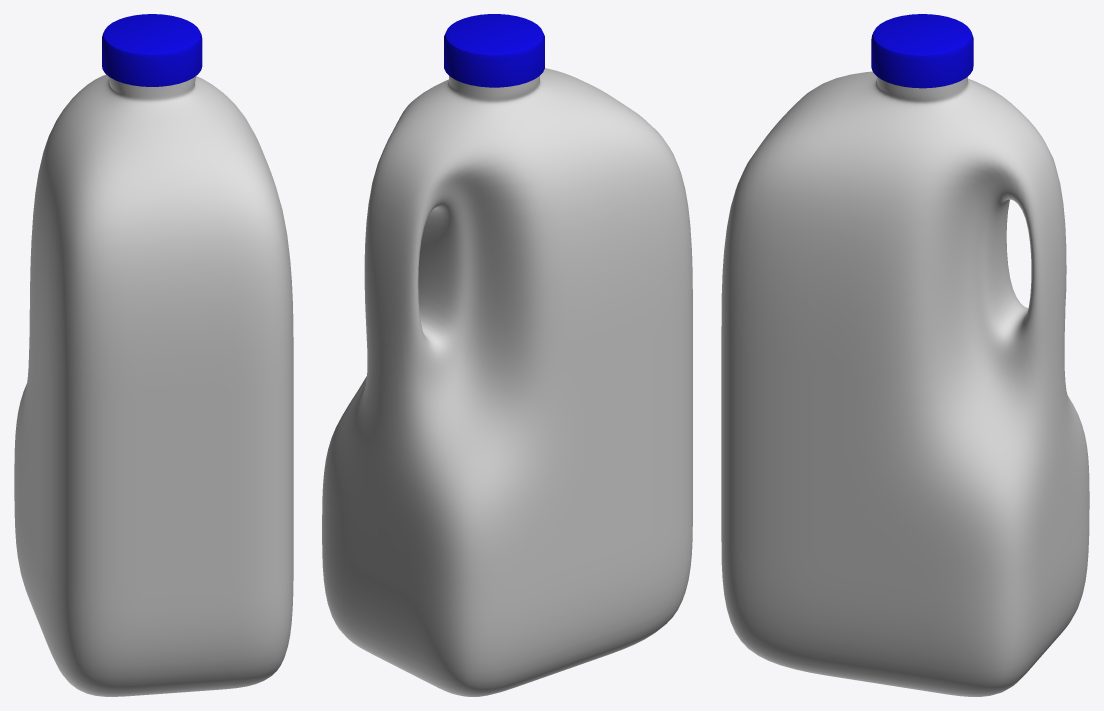
Rendered from milk.glb.
The picture shows the model from 3 angles, left to right: view 1: azimuth 30°, elevation 25°; view 2: azimuth 150°, elevation 25°; view 3: azimuth 270°, elevation 25°; orthographic projection.
Parts seen in each view (by area): view 1: MilkBody, MilkLid; view 2: MilkBody, MilkLid; view 3: MilkBody, MilkLid.
Boxes of the visible parts, x1,y1,x2,y2 form: MilkBody: [14, 74, 293, 696]; MilkLid: [102, 14, 202, 86]; MilkBody: [322, 68, 692, 696]; MilkLid: [444, 14, 544, 87]; MilkBody: [721, 71, 1089, 696]; MilkLid: [871, 14, 973, 88].
Size of the model in its own units: 0.3801 by 0.8191 by 0.4397.
